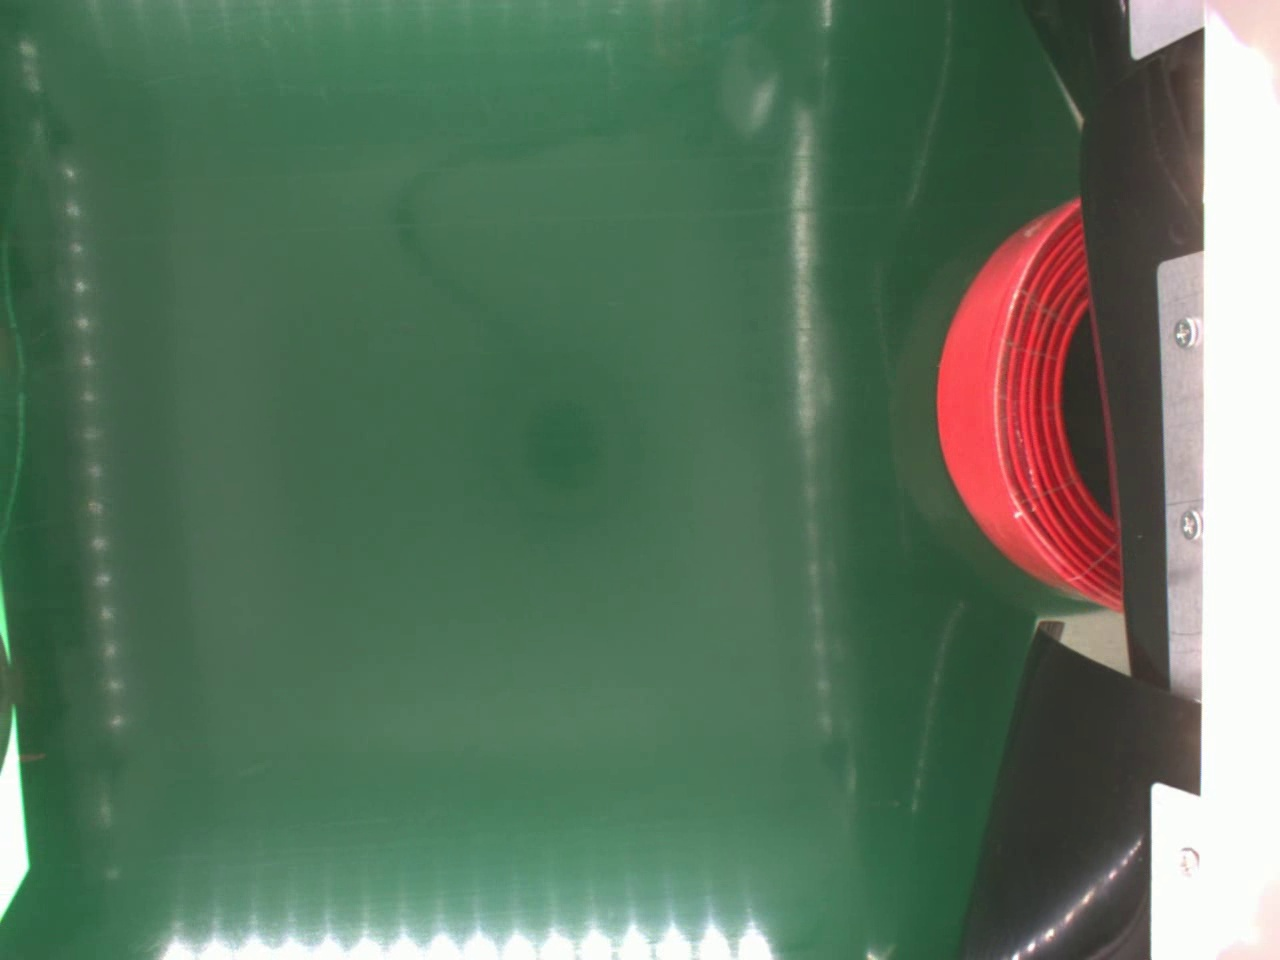red: (935, 192, 1126, 614)
